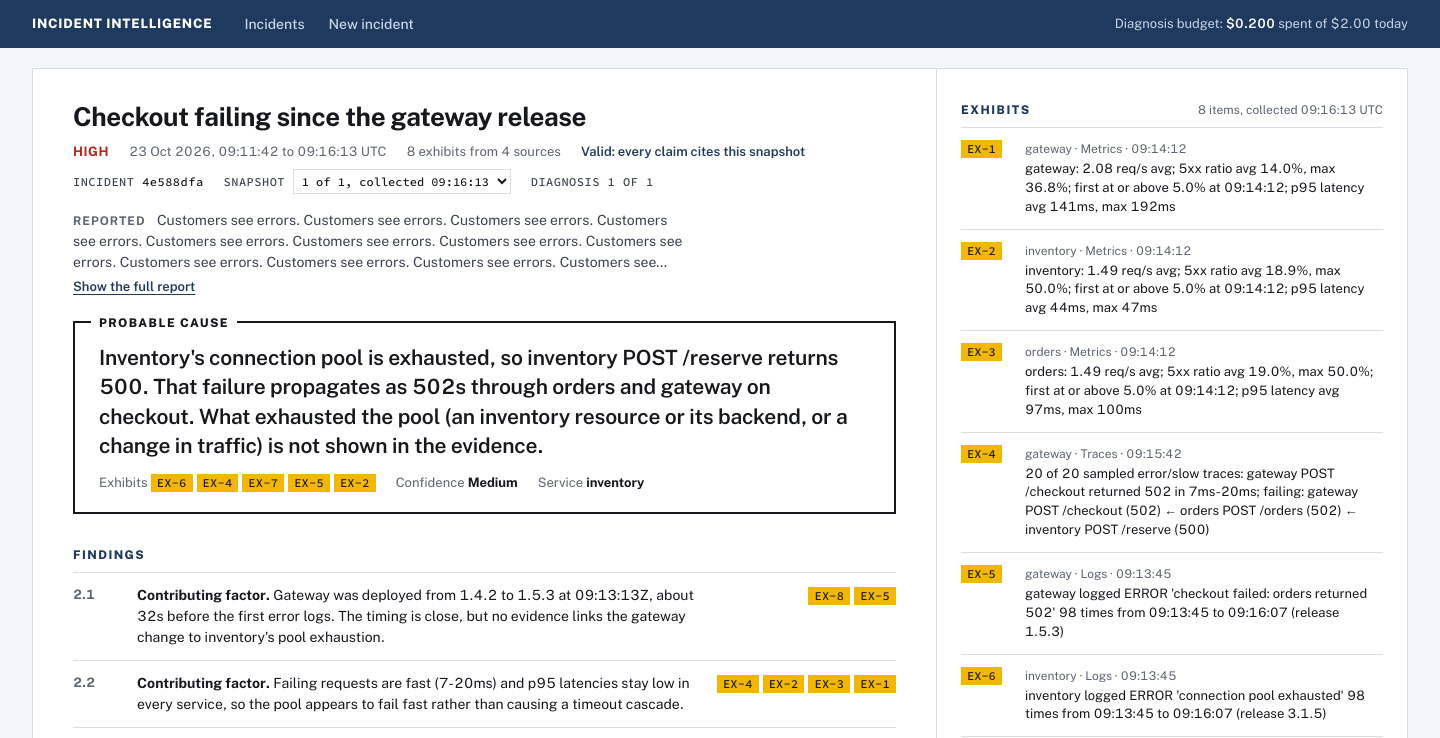
Test: worst cases › clamps a long report and can show all of it
Click the button "Show the full report" at (134, 287), box [73,277,195,296]
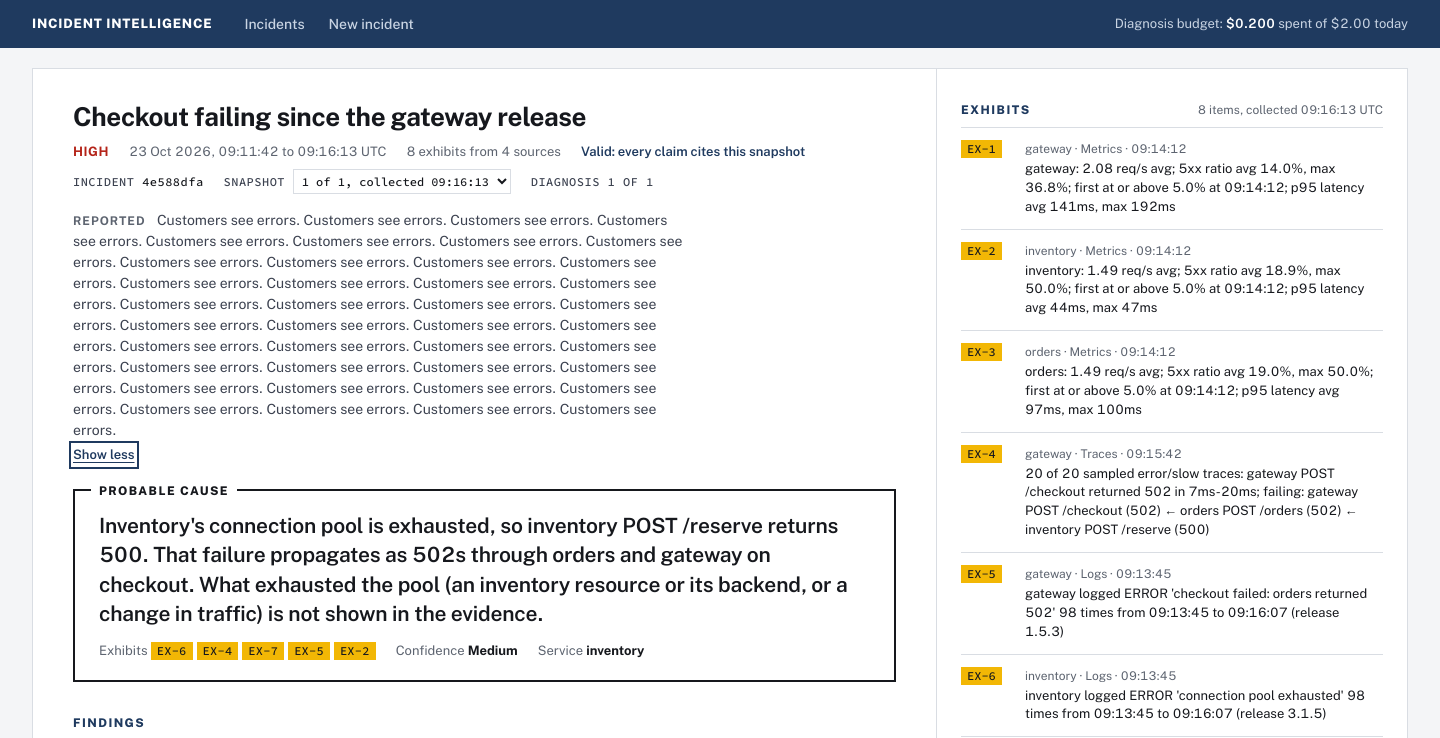
expect the button "Show less" is shown: met, box [73,445,134,464]
